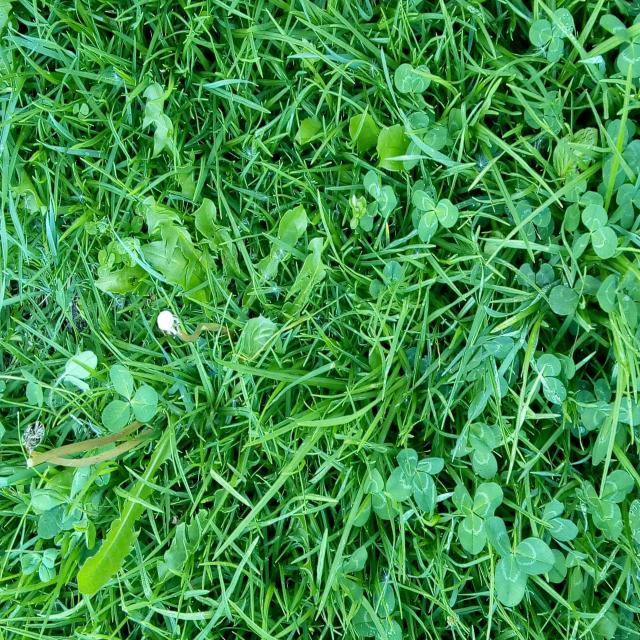Four Leaf Clover: (385, 447, 445, 514)
